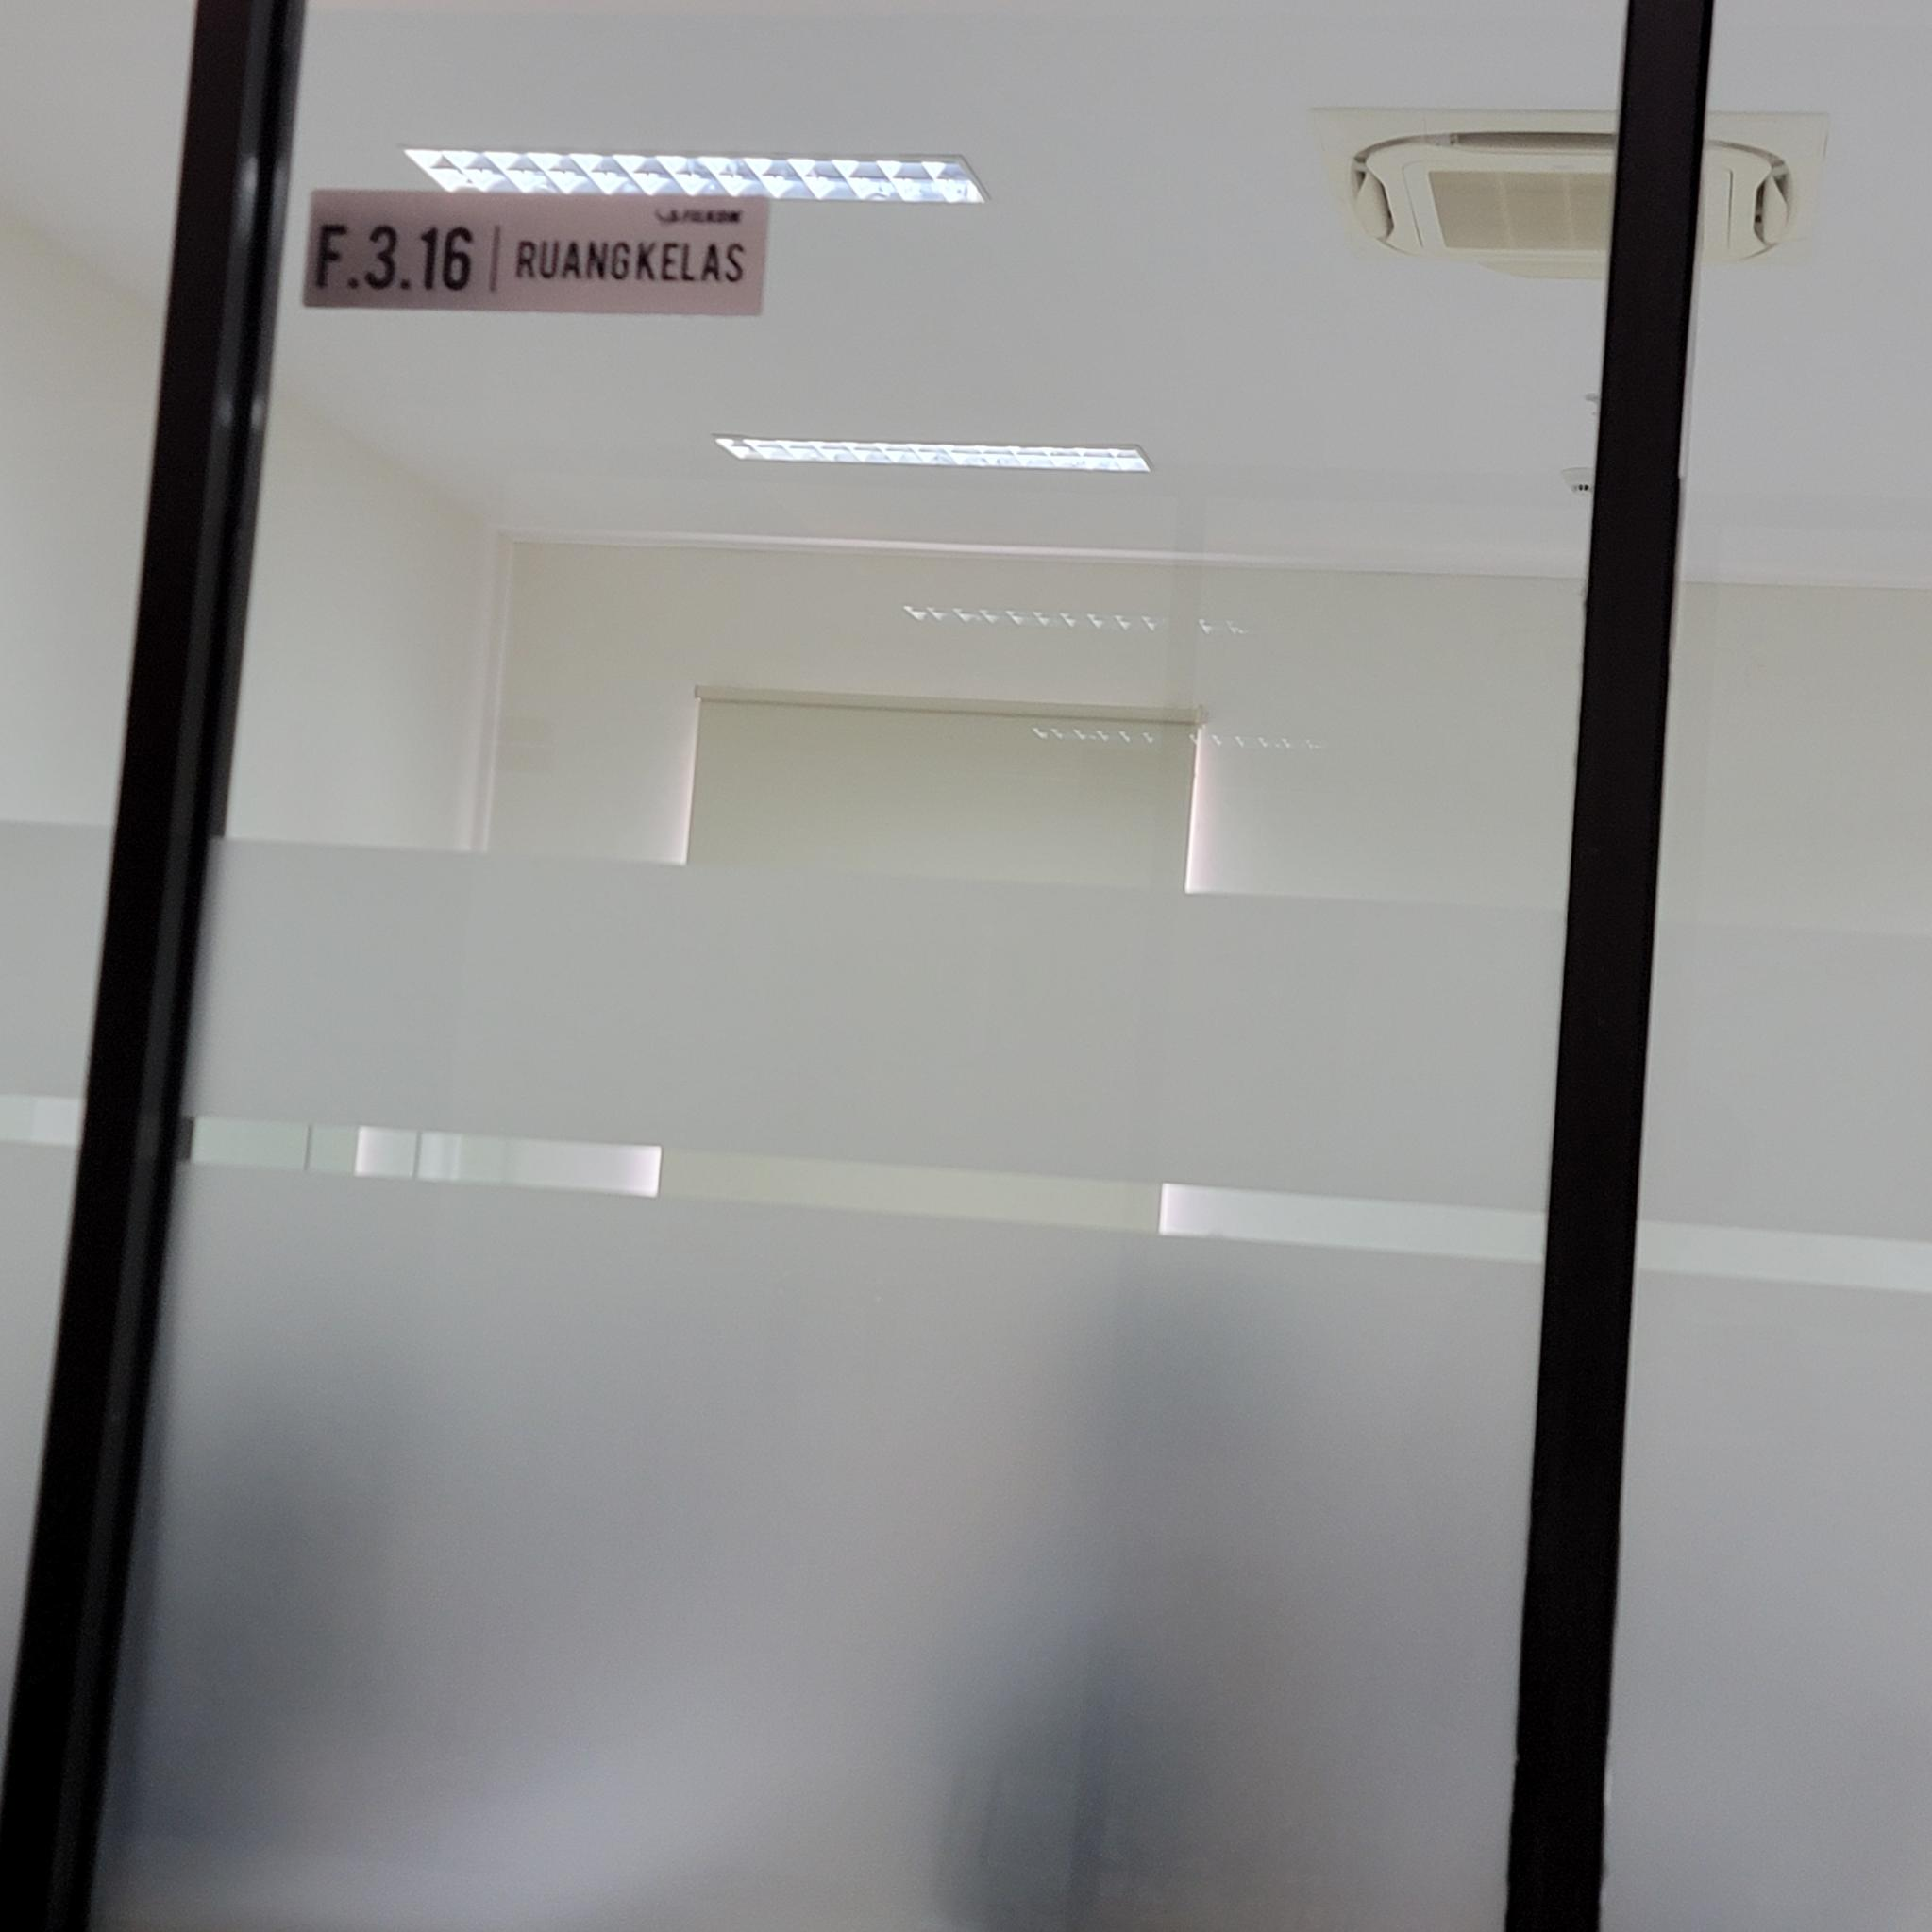plate: (301, 186, 770, 317)
